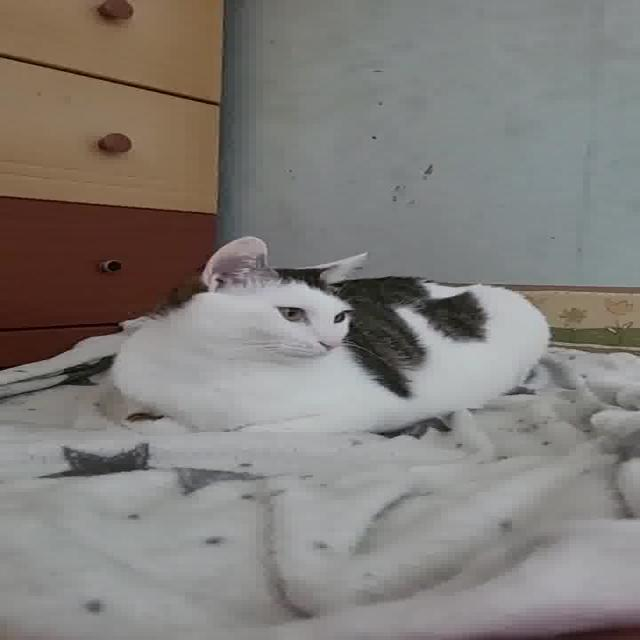cat: (107, 236, 561, 445)
